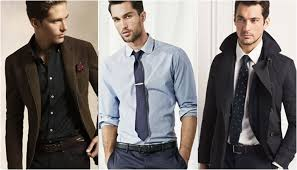F_shirt: (98, 34, 197, 143)
F_tie: (128, 50, 154, 141)
